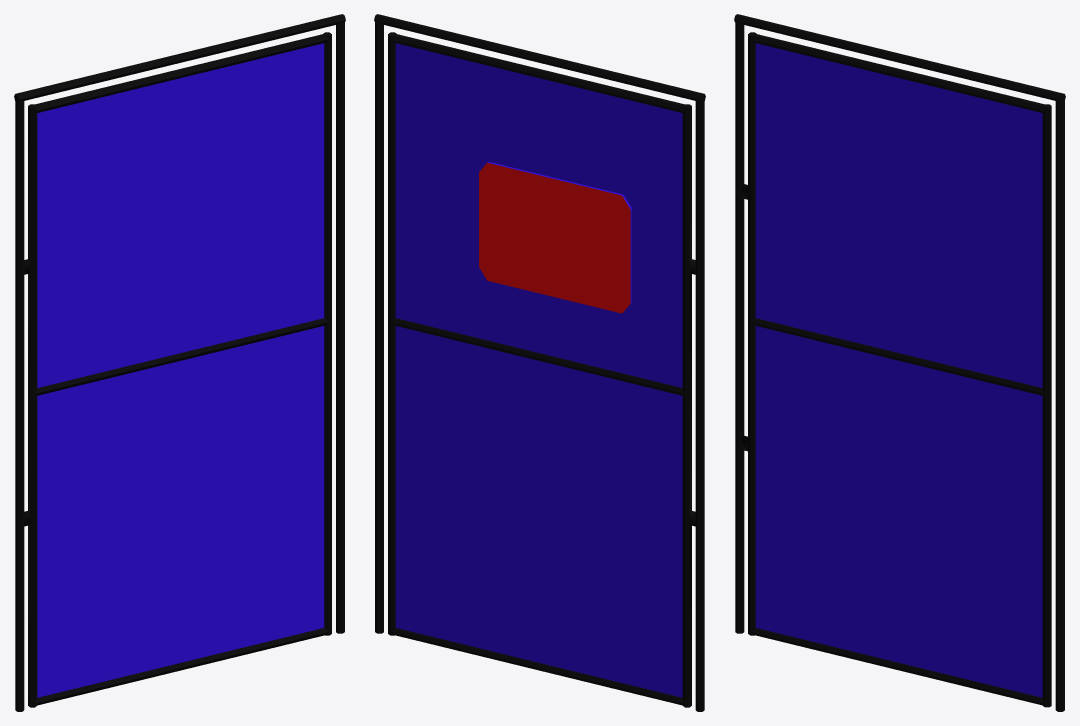
Rendered from FBX_Fence_C_Door.fbx.
3 views of the same model, side by side, from view 1: azimuth 30°, elevation 25°; view 2: azimuth 150°, elevation 25°; view 3: azimuth 330°, elevation 25° (orthographic).
Parts seen in each view (by area): view 1: Fence_Door, Frame; view 2: Fence_Door, Frame; view 3: Fence_Door, Frame.
Part boxes in pixels (x1,y1,x2,y2): Fence_Door: (24,32,331,707); Frame: (14,14,345,711); Fence_Door: (388,32,695,707); Frame: (374,14,705,711); Fence_Door: (742,32,1051,707); Frame: (734,14,1065,711).
Bounding box in the file's own units: 1.67 × 3 × 0.04.
